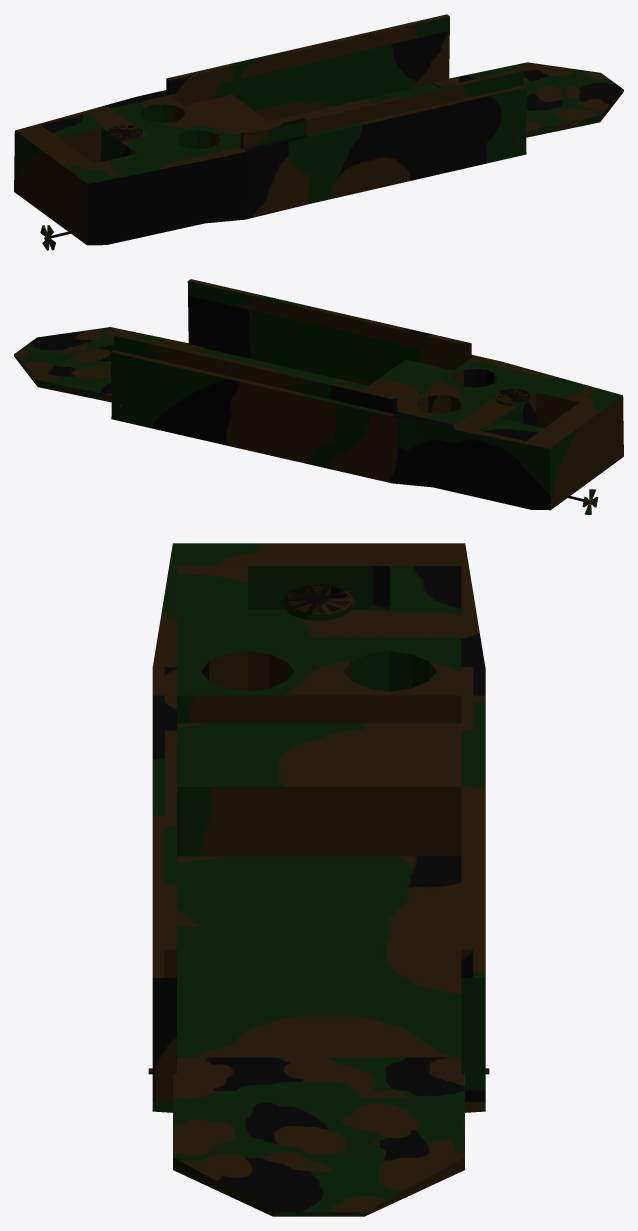
The model's file is transport.glb.
The picture shows the model from 3 angles, top to bottom: view 1: azimuth 30°, elevation 25°; view 2: azimuth 150°, elevation 25°; view 3: azimuth 270°, elevation 25°; orthographic projection. The views are drawn at different scales.
Visible parts, largest first — view 1: barco 2.001_64; view 2: barco 2.001_64; view 3: barco 2.001_64.
Boxes of the visible parts, box(x1,y1,x2,y2) form: barco 2.001_64: box(14, 14, 623, 250); barco 2.001_64: box(14, 279, 623, 514); barco 2.001_64: box(148, 543, 489, 1216).
Bounding box in the file's own units: 13.73 × 2.44 × 3.56.
3 materials, 2 textured.
